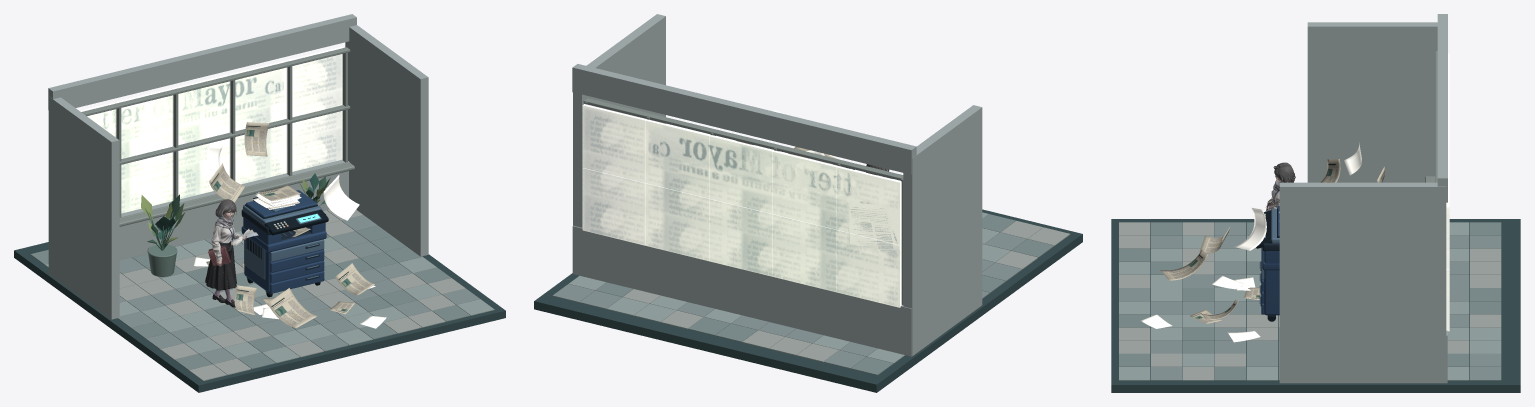
The picture shows the model from 3 angles, left to right: view 1: azimuth 30°, elevation 25°; view 2: azimuth 150°, elevation 25°; view 3: azimuth 270°, elevation 25°; orthographic projection. The views are drawn at different scales.
Visible parts, largest first — view 1: Opposite wall behind the service panel, Side wall and shallow return, Glazed floor tile.003, Window head, Glazed floor tile, Glazed floor tile.006, Ground tile bed, Glazed floor tile.001, Plaster below window, Clouded window pane.007, Clouded window pane.006, Clouded window pane.008 (+27 smaller); view 2: Plaster below window, Side wall and shallow return, Window head, Ground tile bed, Opposite wall behind the service panel, Clouded window pane.005, Clouded window pane, Clouded window pane.008, Clouded window pane.006, Clouded window pane.009, Clouded window pane.007, Clouded window pane.001 (+8 smaller); view 3: Opposite wall behind the service panel, Side wall and shallow return, Ground tile bed, Glazed floor tile.003, Glazed floor tile.006, Glazed floor tile, Glazed floor tile.001, Window head, Copier lower cabinet, tripo_node_8c4dcdcd-5f01-4d59-9080-0b3629db676c, Loose sheet in the window draft.001, Loose sheet in the window draft.005 (+1 smaller).
Boxes of the visible parts, bbox=[...] form: Opposite wall behind the service panel: bbox=[345, 25, 428, 256]; Side wall and shallow return: bbox=[48, 96, 119, 319]; Glazed floor tile.003: bbox=[118, 215, 479, 364]; Window head: bbox=[48, 14, 356, 109]; Glazed floor tile: bbox=[119, 209, 465, 380]; Glazed floor tile.006: bbox=[45, 209, 494, 363]; Ground tile bed: bbox=[14, 242, 505, 392]; Glazed floor tile.001: bbox=[30, 210, 470, 370]; Plaster below window: bbox=[119, 159, 348, 260]; Clouded window pane.007: bbox=[171, 74, 229, 145]; Clouded window pane.006: bbox=[114, 88, 172, 157]; Clouded window pane.008: bbox=[228, 60, 286, 131]; Plaster below window: bbox=[572, 225, 911, 356]; Side wall and shallow return: bbox=[903, 105, 982, 356]; Window head: bbox=[572, 64, 916, 174]; Ground tile bed: bbox=[534, 209, 1082, 392]; Opposite wall behind the service panel: bbox=[573, 14, 665, 227]; Clouded window pane.005: bbox=[836, 166, 901, 244]; Clouded window pane: bbox=[836, 230, 901, 307]; Clouded window pane.008: bbox=[646, 119, 710, 198]; Clouded window pane.006: bbox=[773, 150, 837, 229]; Clouded window pane.009: bbox=[582, 104, 647, 182]; Clouded window pane.007: bbox=[709, 135, 774, 213]; Clouded window pane.001: bbox=[773, 214, 836, 292]; Opposite wall behind the service panel: bbox=[1279, 182, 1446, 383]; Side wall and shallow return: bbox=[1307, 22, 1437, 182]; Ground tile bed: bbox=[1111, 219, 1520, 392]; Glazed floor tile.003: bbox=[1119, 222, 1501, 380]; Glazed floor tile.006: bbox=[1119, 222, 1501, 380]; Glazed floor tile: bbox=[1119, 222, 1501, 380]; Glazed floor tile.001: bbox=[1119, 222, 1501, 380]; Window head: bbox=[1437, 14, 1447, 202]; Copier lower cabinet: bbox=[1264, 270, 1279, 315]; tripo_node_8c4dcdcd-5f01-4d59-9080-0b3629db676c: bbox=[1265, 162, 1295, 211]; Loose sheet in the window draft.001: bbox=[1235, 208, 1266, 250]; Loose sheet in the window draft.005: bbox=[1160, 250, 1207, 280].
Bounding box in the file's own units: 9.6 × 5.77 × 10.
Materials: 26 (3 with a texture image).
